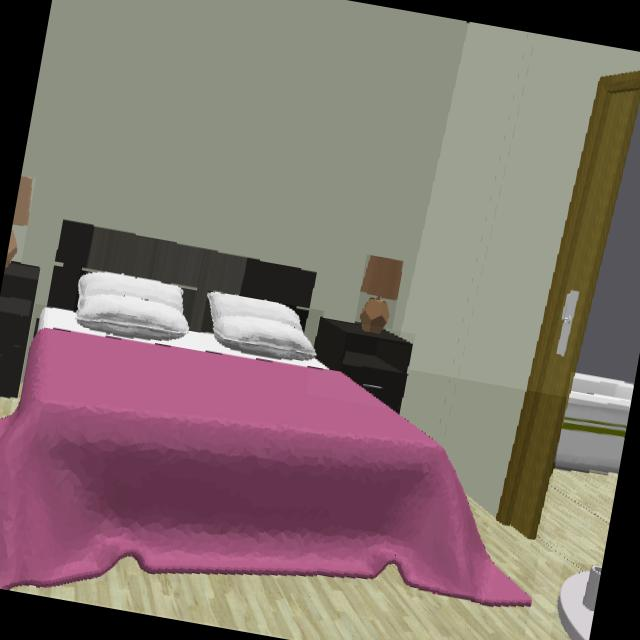bathtube: (555, 374, 634, 475)
bed: (0, 310, 529, 608)
lamp: (358, 255, 402, 336), (4, 176, 33, 267)
nighttable: (314, 318, 411, 410), (0, 262, 41, 399)
pillow: (74, 271, 187, 344), (206, 292, 315, 362)
table: (556, 567, 601, 640)
